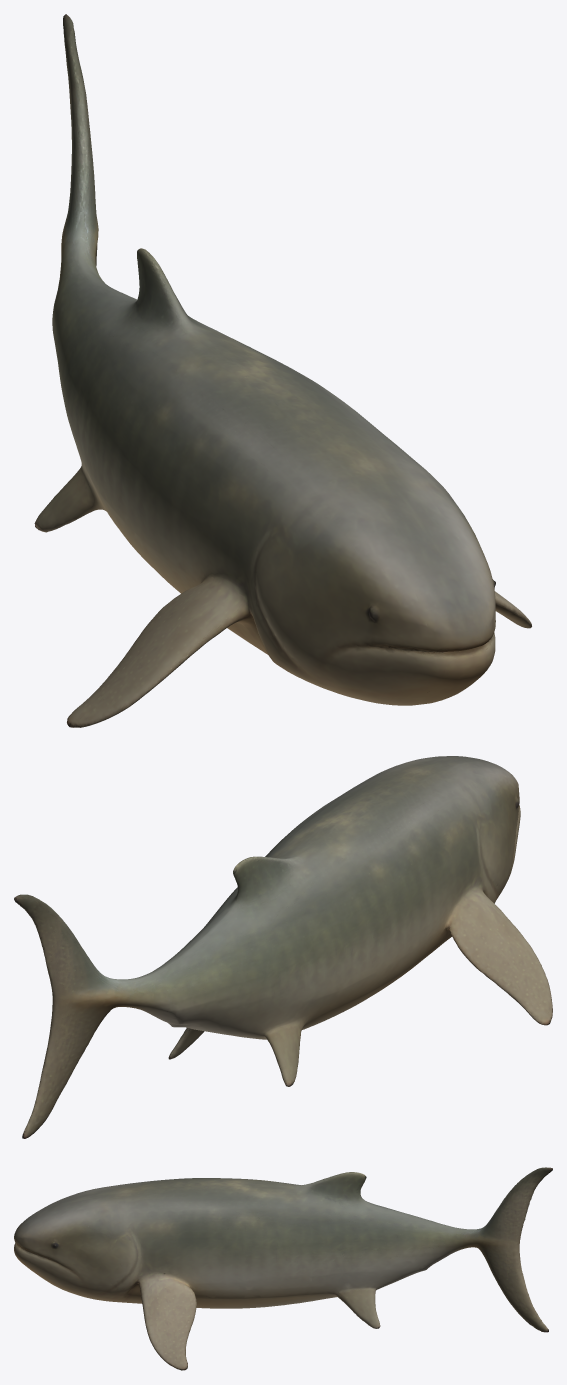
The picture shows the model from 3 angles, top to bottom: view 1: azimuth 30°, elevation 25°; view 2: azimuth 150°, elevation 25°; view 3: azimuth 270°, elevation 25°; orthographic projection. The views are drawn at different scales.
Visible parts, largest first — view 1: world; view 2: world; view 3: world.
Boxes of the visible parts, bbox=[...] form: world: bbox=[34, 14, 531, 727]; world: bbox=[14, 756, 552, 1138]; world: bbox=[14, 1167, 552, 1370].
Bounding box in the file's own units: 6.82 × 5.19 × 14.
Materials: 1 (1 with a texture image).
